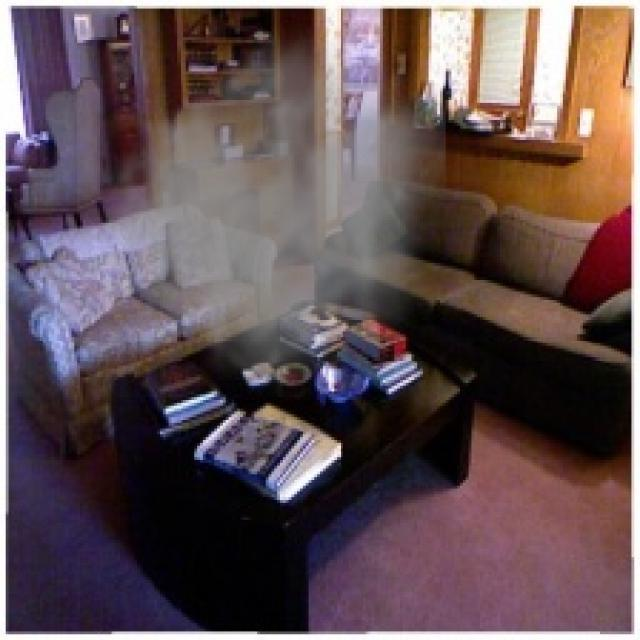Smoke: (68, 17, 446, 400)
